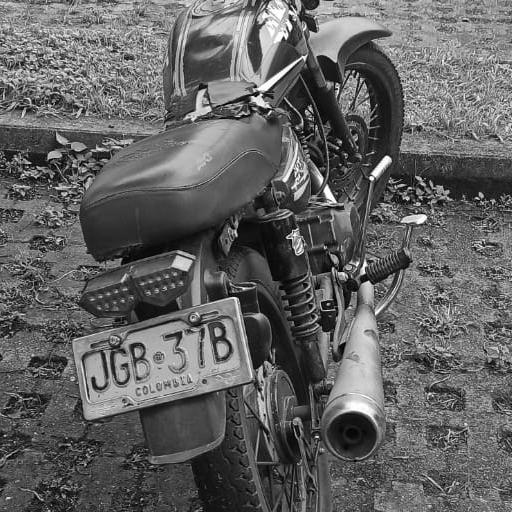placa: (73, 298, 256, 428)
